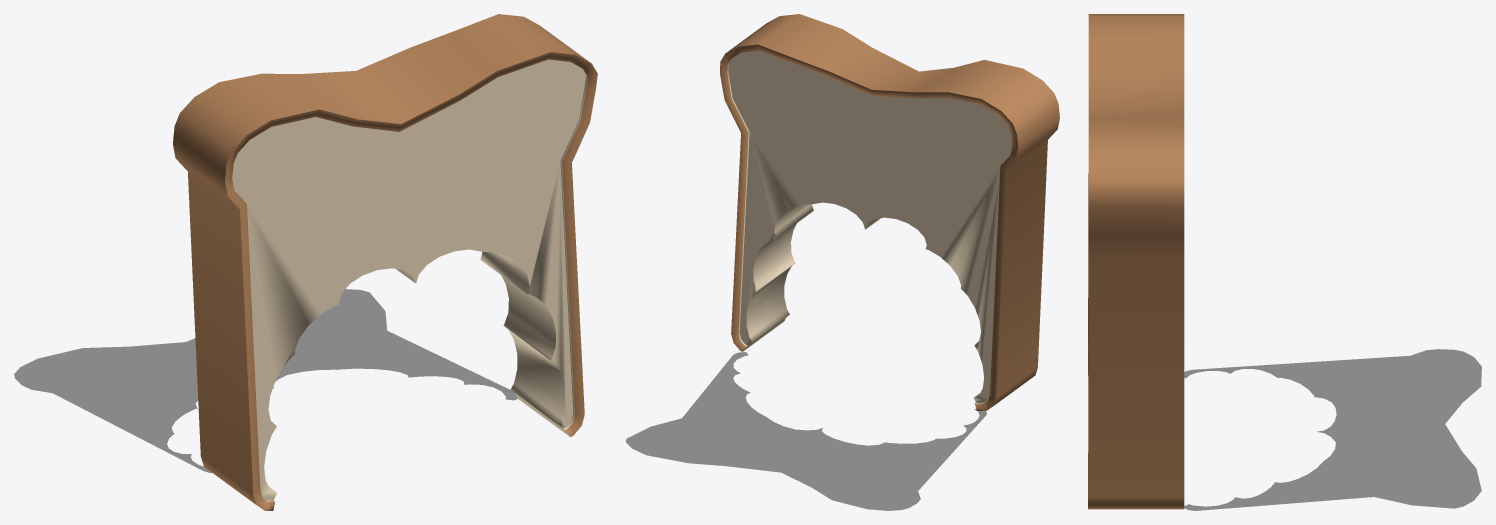
File: bread.glb
The picture shows the model from 3 angles, left to right: view 1: azimuth 30°, elevation 25°; view 2: azimuth 150°, elevation 25°; view 3: azimuth 270°, elevation 25°; orthographic projection. The views are drawn at different scales.
Parts seen in each view (by area): view 1: Cube.001; view 2: Cube.001; view 3: Cube.001.
Boxes of the visible parts, x1,y1,x2,y2 form: Cube.001: [14, 14, 597, 510]; Cube.001: [626, 14, 1059, 510]; Cube.001: [1088, 14, 1481, 510].
Bounding box in the file's own units: 3.1 × 3 × 2.98.
